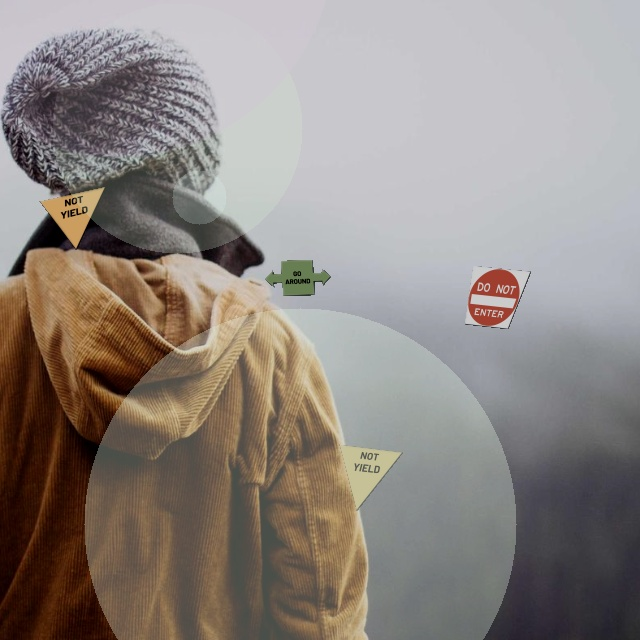DO_NOT_ENTER: (464, 265, 531, 329)
GO_AROUND: (264, 259, 331, 296)
NOT_YIELD: (39, 186, 106, 250), (339, 444, 403, 511)
